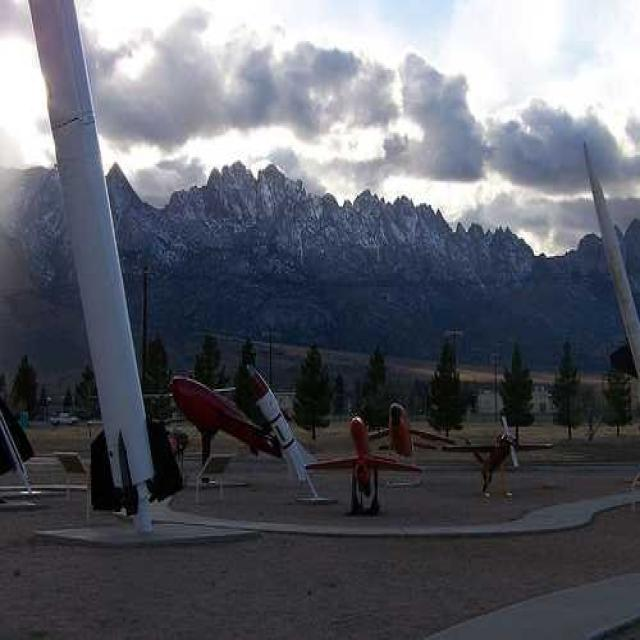missile: (28, 1, 181, 618), (242, 357, 329, 523)
